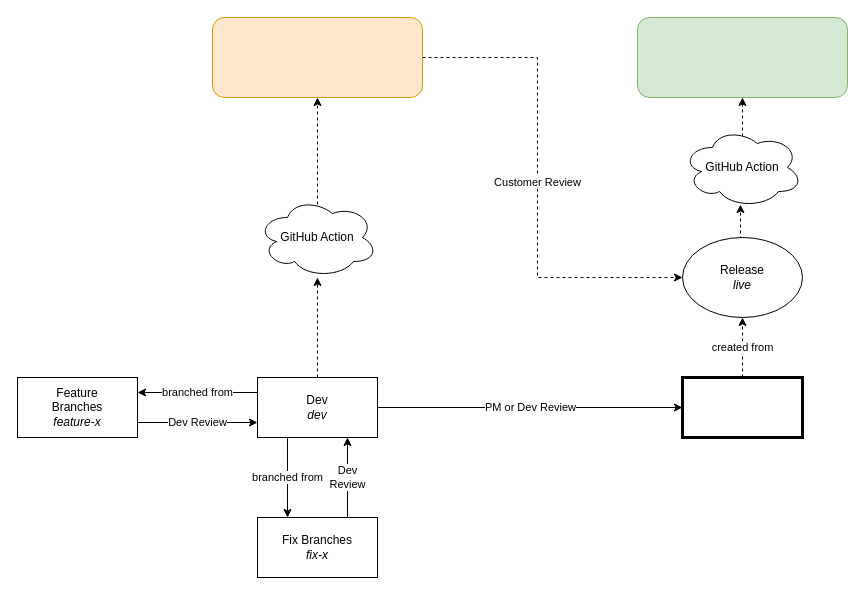
This 865x595 diagram has some shape labels left out. The shapes that lost their labels are listed below. From the top down, each one's box as (x1, y1, x2, y2) in pixels, then its label:
(212, 16, 422, 98): Dev System (AWS Lambda + Aurora Serverless)
(636, 16, 848, 98): Live System (AWS Lambda + Aurora Serverless)
(680, 376, 804, 438): Master master
